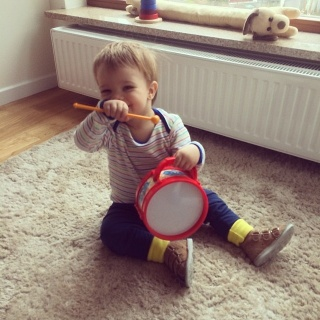without_mask: (91, 41, 157, 120)
